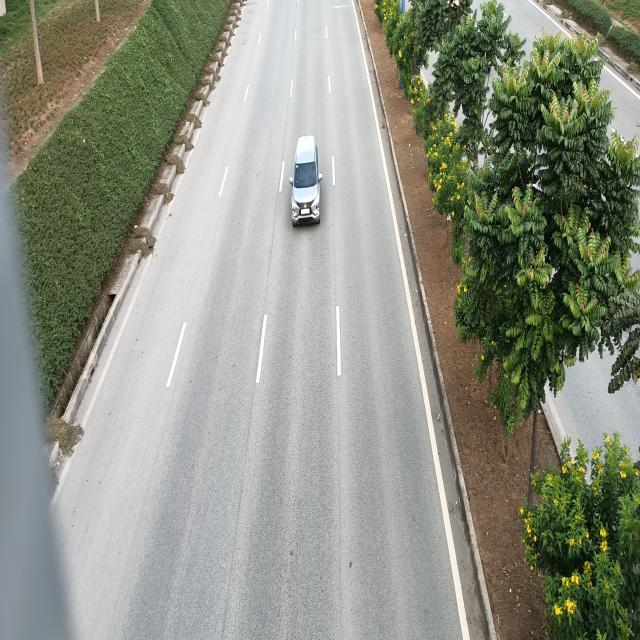car: (288, 138, 320, 230)
